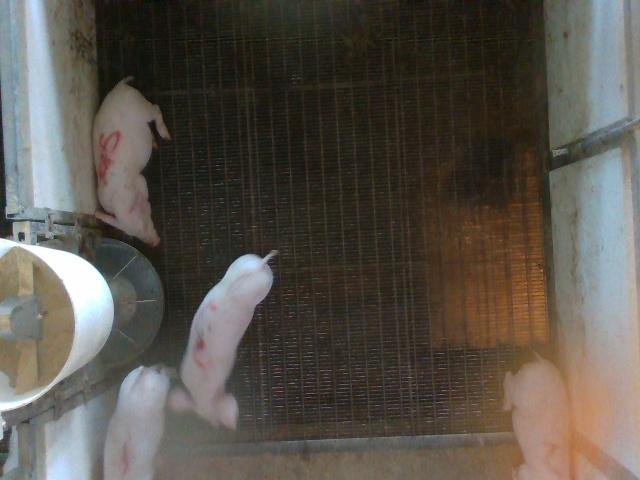pig-1: (104, 366, 170, 478)
pig-2: (504, 355, 570, 479)
pig-3: (168, 250, 276, 428)
pig-5: (94, 78, 170, 246)
